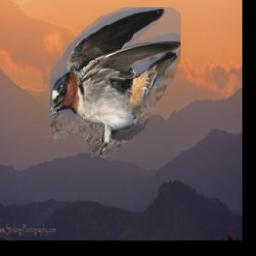Swallow: (50, 8, 181, 159)
